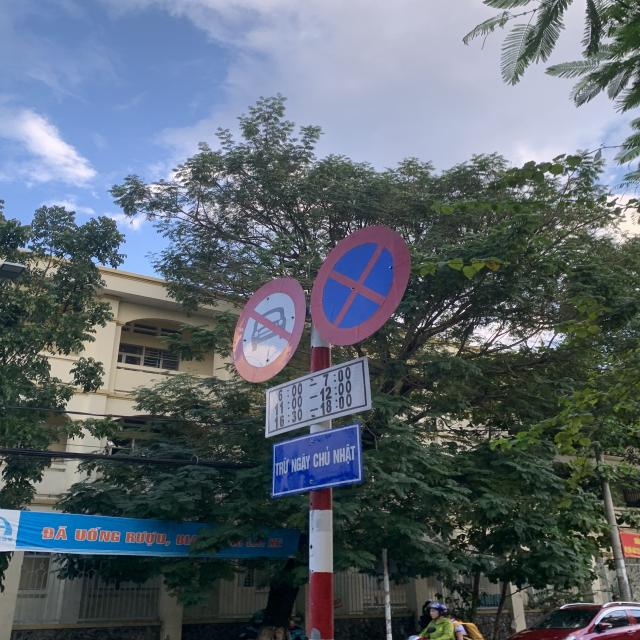Cam_Dung_Va_Dau_Xe: (310, 227, 413, 347)
Cam_O_To: (232, 276, 306, 383)
